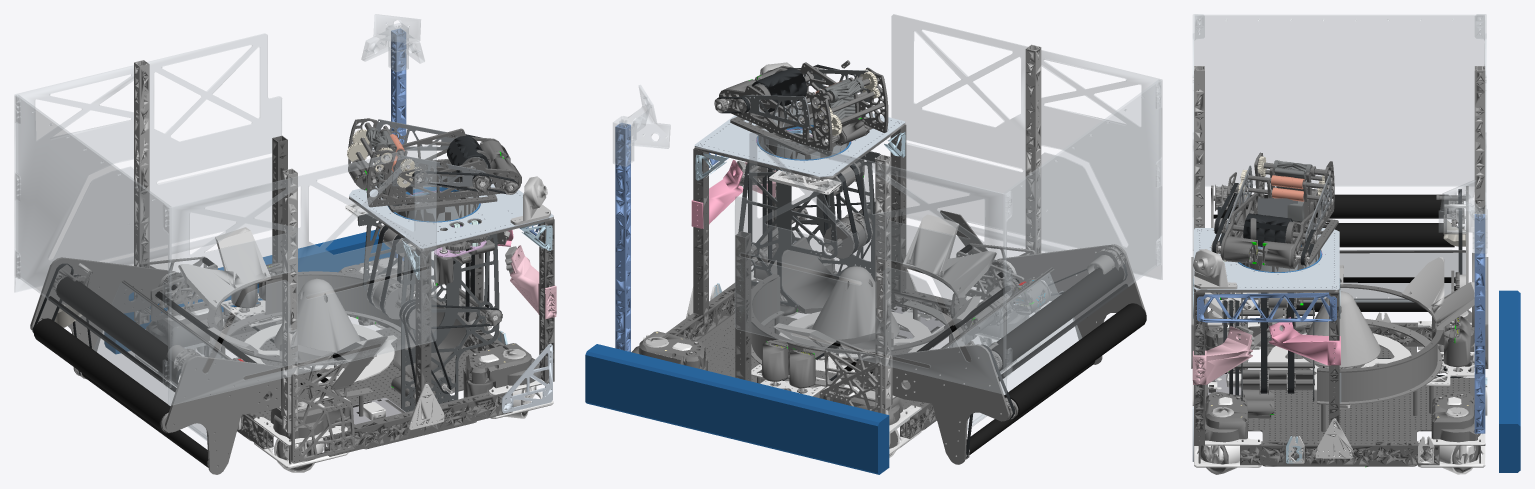
Rendered from aimbot-3256.glb.
The picture shows the model from 3 angles, left to right: view 1: azimuth 30°, elevation 25°; view 2: azimuth 150°, elevation 25°; view 3: azimuth 270°, elevation 25°; orthographic projection. The views are drawn at different scales.
Parts seen in each view (by area): view 1: hopper-ext, frame, intake, turret, rotor, hood, flywheel; view 2: hopper-ext, frame, intake, turret, rotor, hood, flywheel; view 3: frame, hopper-ext, intake, hood, rotor, turret, flywheel.
Boxes of the visible parts, left/top/right/bottom form: hopper-ext: left=14, top=33, right=436, bottom=405; frame: left=104, top=14, right=556, bottom=472; intake: left=30, top=257, right=318, bottom=474; turret: left=348, top=118, right=550, bottom=227; rotor: left=241, top=275, right=410, bottom=386; hood: left=347, top=119, right=521, bottom=196; flywheel: left=447, top=136, right=490, bottom=180; hopper-ext: left=735, top=14, right=1162, bottom=394; frame: left=585, top=44, right=1041, bottom=474; intake: left=855, top=244, right=1146, bottom=464; turret: left=719, top=62, right=888, bottom=170; rotor: left=751, top=266, right=932, bottom=389; hood: left=714, top=60, right=884, bottom=139; flywheel: left=752, top=67, right=807, bottom=112; frame: left=1191, top=66, right=1520, bottom=474; hopper-ext: left=1192, top=14, right=1486, bottom=323; intake: left=1211, top=184, right=1468, bottom=311; hood: left=1211, top=156, right=1333, bottom=268; rotor: left=1267, top=291, right=1462, bottom=401; turret: left=1193, top=152, right=1338, bottom=289; flywheel: left=1243, top=213, right=1297, bottom=246.
Size of the model in its own units: 1.02 by 0.8721 by 0.7747.
